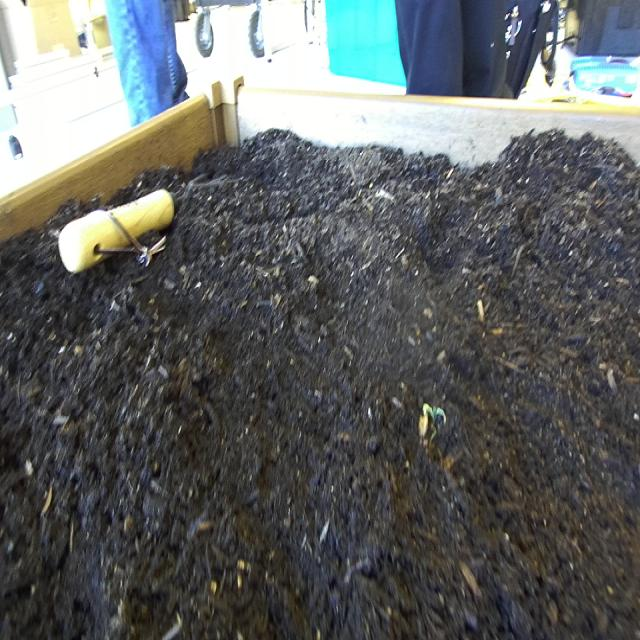Unhealthy: (419, 402, 448, 444)
